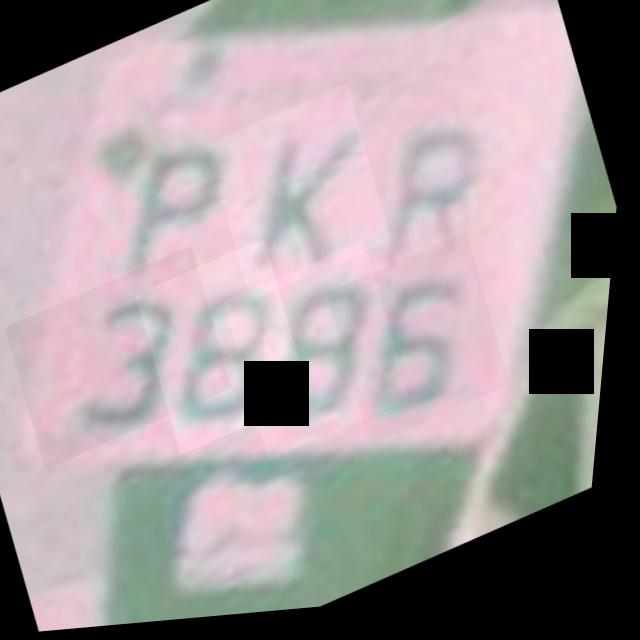3: (1, 246, 249, 475)
6: (322, 237, 529, 457)
8: (218, 243, 429, 470)
B: (130, 239, 330, 463)
K: (198, 86, 408, 311)
P: (71, 93, 279, 308)
